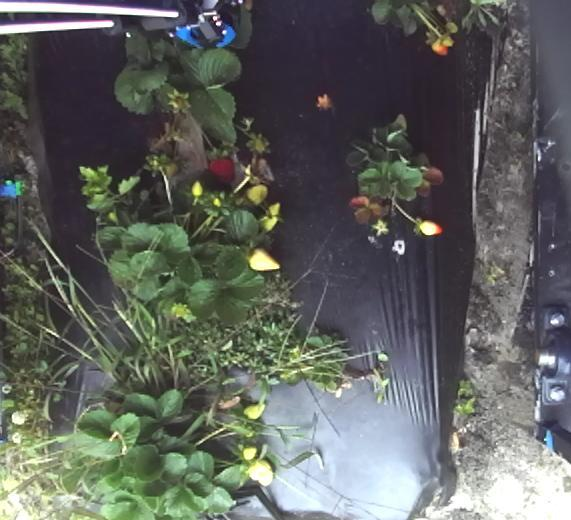leaves: (241, 460, 278, 487), (248, 247, 281, 272), (415, 216, 443, 238), (428, 34, 452, 57), (246, 401, 267, 421), (248, 186, 268, 203), (241, 442, 261, 458), (191, 175, 204, 199), (262, 219, 279, 234), (266, 203, 283, 216)
mature: (414, 162, 445, 200), (206, 152, 236, 183), (351, 195, 388, 219), (313, 91, 334, 113)
